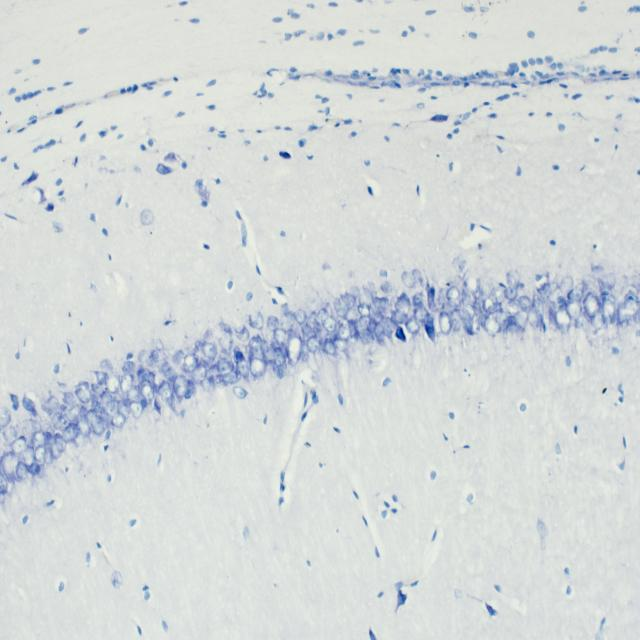neuron: (285, 330, 302, 366), (13, 420, 42, 440), (48, 406, 70, 432), (617, 299, 638, 323), (1, 452, 20, 478), (514, 304, 532, 330), (583, 292, 600, 318), (548, 286, 566, 310), (535, 274, 552, 299), (394, 292, 411, 315), (555, 308, 571, 331), (464, 274, 481, 295), (484, 315, 501, 336), (191, 363, 207, 385), (174, 375, 188, 400), (76, 414, 91, 437), (218, 332, 234, 353), (438, 311, 452, 335), (603, 298, 615, 326), (41, 396, 60, 413), (249, 358, 266, 377), (260, 339, 274, 362), (273, 354, 287, 377), (75, 384, 91, 404), (405, 315, 421, 335), (279, 313, 294, 334), (217, 358, 234, 376), (390, 309, 408, 326), (575, 313, 591, 332), (105, 374, 120, 394), (566, 299, 581, 319), (527, 307, 540, 330), (92, 414, 106, 435), (10, 436, 27, 453), (482, 296, 499, 313), (0, 406, 12, 430), (62, 424, 78, 442), (65, 404, 81, 422), (182, 354, 198, 372), (234, 325, 250, 343), (336, 323, 352, 341), (358, 328, 374, 346), (450, 308, 462, 332), (249, 311, 264, 330), (363, 281, 378, 300), (117, 400, 131, 420), (158, 380, 172, 400), (273, 327, 287, 347), (496, 310, 510, 330), (560, 275, 574, 295), (504, 299, 520, 316), (341, 292, 356, 310), (401, 270, 416, 288), (120, 374, 134, 393), (323, 338, 337, 357), (412, 268, 426, 287), (532, 294, 544, 316), (41, 423, 54, 443), (591, 310, 604, 330), (453, 254, 466, 274), (600, 272, 616, 288), (355, 316, 370, 333), (382, 317, 397, 334), (141, 383, 155, 401), (323, 316, 337, 334), (506, 270, 520, 288), (54, 433, 67, 452), (130, 401, 143, 420), (236, 359, 249, 378), (23, 444, 34, 466), (16, 462, 28, 482), (51, 439, 63, 459), (220, 372, 240, 384), (248, 336, 263, 352), (446, 285, 461, 301), (503, 286, 518, 302), (517, 296, 532, 312), (4, 426, 18, 443), (205, 364, 219, 381), (415, 304, 428, 322), (314, 325, 326, 344), (111, 413, 126, 428), (74, 432, 88, 448), (157, 361, 171, 377), (201, 342, 215, 358), (250, 346, 264, 362), (462, 304, 476, 320), (492, 286, 505, 303), (307, 336, 319, 354), (480, 284, 492, 302), (26, 462, 41, 476), (31, 431, 45, 446), (91, 393, 102, 412), (127, 385, 140, 401), (165, 368, 178, 384), (202, 376, 215, 392), (215, 373, 228, 389), (266, 315, 278, 332), (21, 397, 35, 411), (106, 398, 120, 412), (357, 304, 371, 318), (334, 338, 347, 353), (380, 280, 393, 295), (9, 394, 21, 410), (294, 309, 306, 325), (301, 323, 313, 339), (548, 312, 558, 331), (62, 392, 76, 405), (105, 406, 119, 419), (92, 382, 105, 396), (233, 385, 246, 399), (0, 474, 9, 494), (34, 445, 46, 460), (85, 409, 97, 424), (172, 349, 184, 364), (300, 340, 308, 362), (567, 289, 583, 300), (44, 446, 53, 465), (374, 321, 384, 338), (472, 299, 482, 316), (122, 361, 135, 374), (138, 368, 150, 382), (448, 297, 462, 309), (95, 370, 106, 385), (200, 357, 215, 368), (424, 313, 435, 328), (348, 320, 357, 338), (379, 296, 389, 312), (100, 391, 112, 404), (100, 359, 113, 371), (317, 308, 329, 321), (625, 291, 638, 303), (412, 292, 423, 306), (471, 318, 480, 335), (372, 296, 382, 311), (137, 350, 148, 363), (274, 354, 285, 367), (5, 478, 14, 493), (101, 416, 110, 430), (148, 372, 157, 386), (150, 348, 159, 362), (187, 378, 196, 392), (233, 346, 240, 364), (472, 286, 481, 300), (336, 308, 348, 318), (146, 354, 154, 368), (333, 298, 341, 312), (79, 405, 88, 417), (135, 364, 144, 376), (139, 398, 148, 410), (202, 330, 212, 340), (184, 389, 193, 399), (309, 311, 316, 323), (379, 269, 388, 278)
